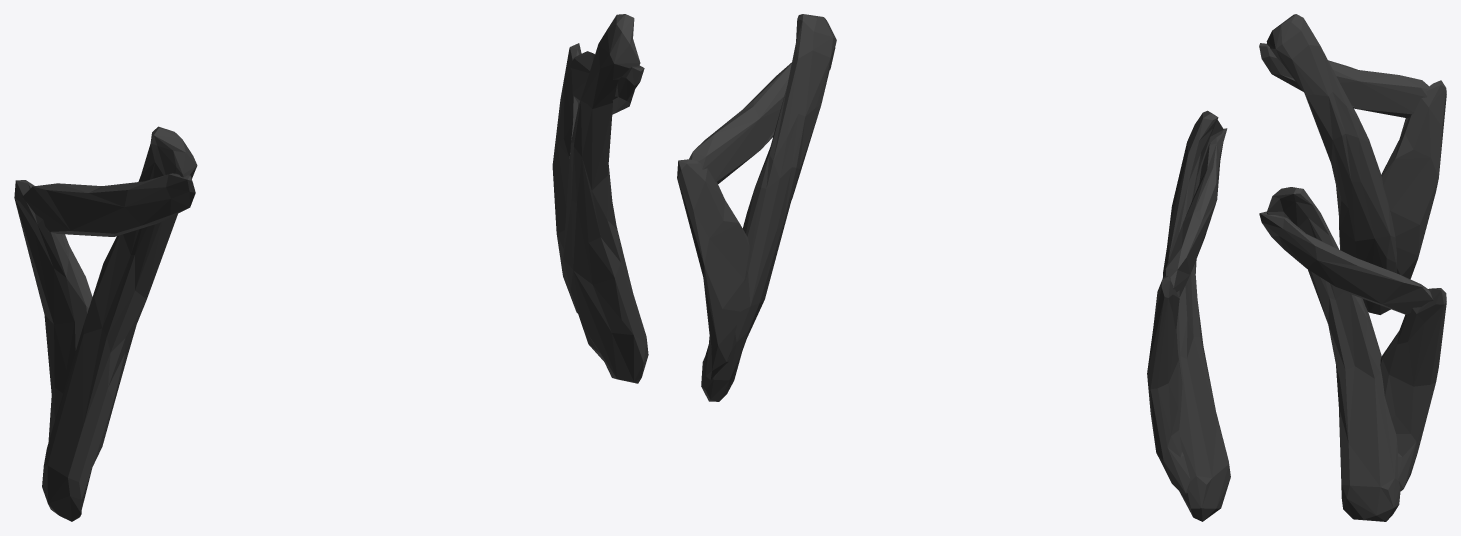
Rendered from lig_medial_collateral_tarsal.glb.
3 renders of one model, left to right at view 1: azimuth 30°, elevation 25°; view 2: azimuth 150°, elevation 25°; view 3: azimuth 270°, elevation 25°, orthographic. The views are drawn at different scales.
Visible parts, largest first — view 1: lig_medial_collateral_tarsal; view 2: lig_medial_collateral_tarsal; view 3: lig_medial_collateral_tarsal.
Boxes of the visible parts, left/top/right/bottom form: lig_medial_collateral_tarsal: left=14, top=14, right=648, bottom=521; lig_medial_collateral_tarsal: left=677, top=14, right=1230, bottom=521; lig_medial_collateral_tarsal: left=1259, top=14, right=1446, bottom=521.
Bounding box in the file's own units: 0.00362 × 0.00245 × 0.00132.
Materials: 1 (1 with a texture image).
